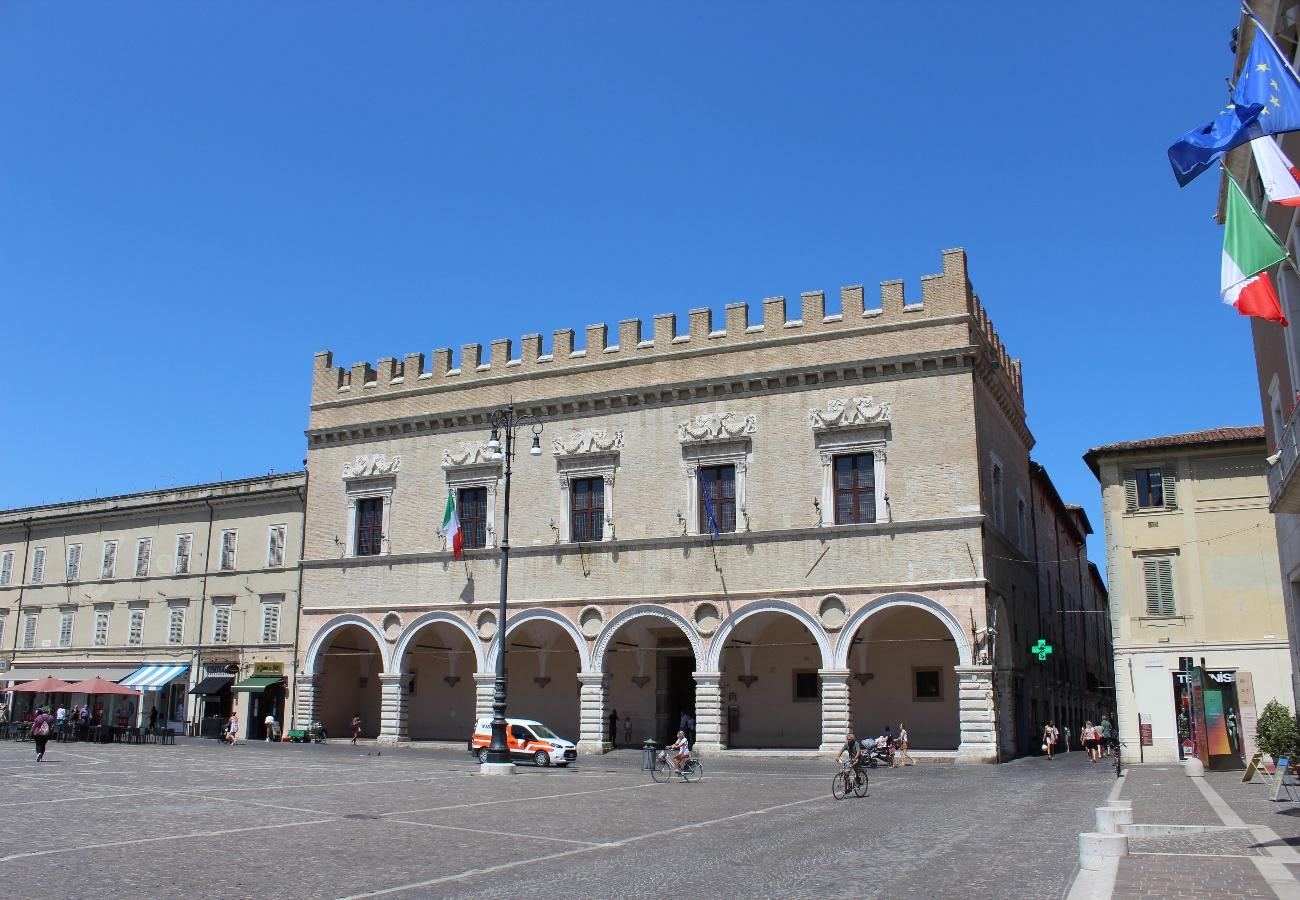Palazzo Ducale: (309, 248, 993, 763)
